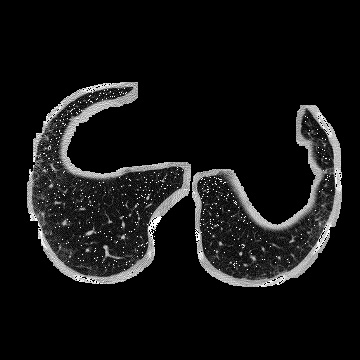PN: (241, 244, 245, 248)
